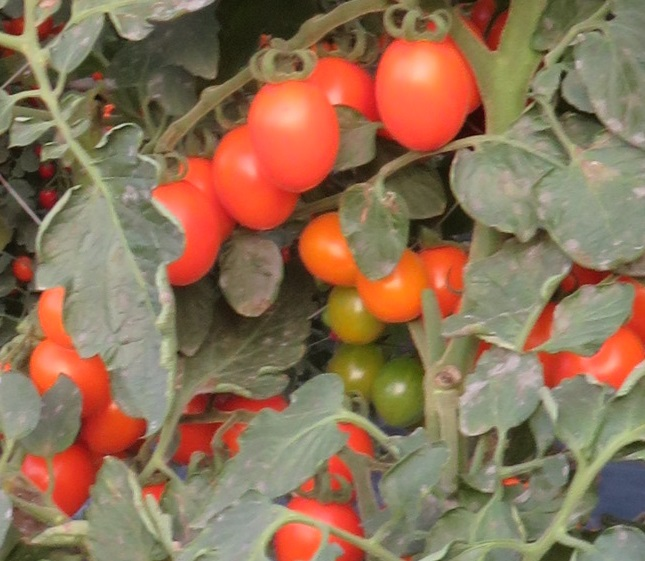green: (375, 357, 431, 432), (325, 339, 389, 401), (321, 286, 383, 348)
orange: (246, 82, 345, 193), (377, 37, 468, 156), (154, 184, 225, 289), (30, 341, 112, 417), (269, 496, 363, 561), (212, 121, 264, 226), (348, 267, 437, 323), (295, 207, 352, 284)
red: (19, 442, 94, 517)
